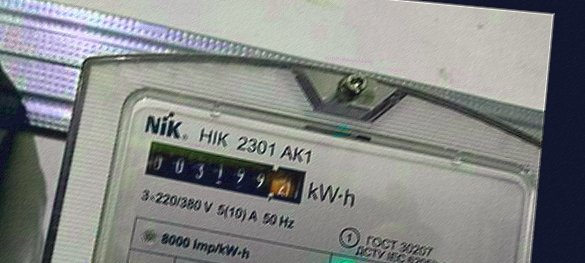0: (151, 151, 166, 171), (174, 154, 187, 174)
1: (216, 159, 226, 179)
3: (195, 160, 205, 180)
6: (276, 181, 288, 198)
9: (255, 170, 267, 189), (235, 165, 246, 183)
screen: (138, 135, 316, 212)
